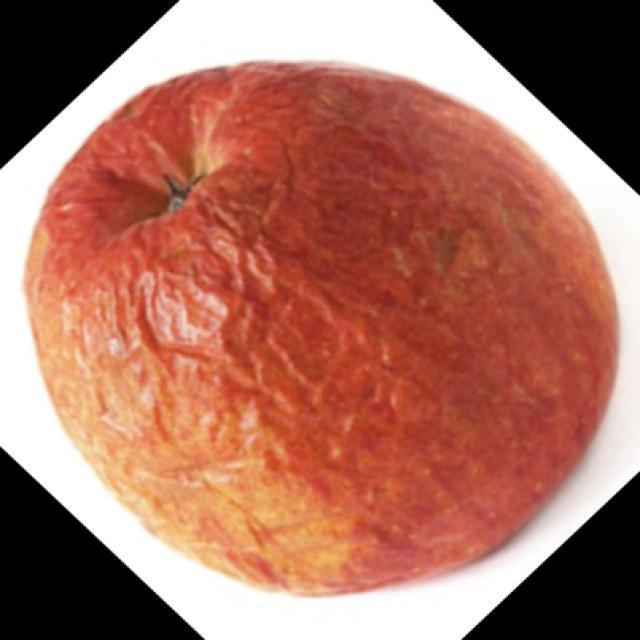Rotten: (66, 60, 602, 608)
